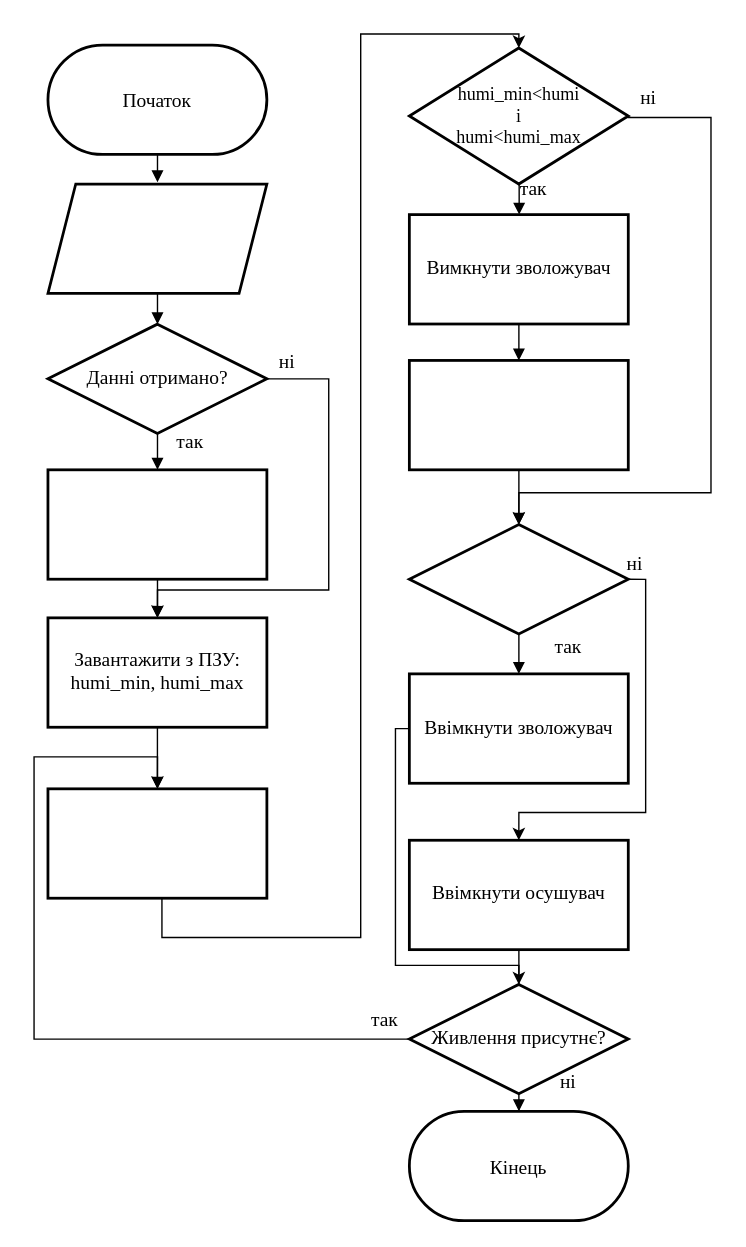
The diagram is 746 pixels wide and 1247 high, and some of its shapes have lost their labels. Each missing label, with the box of its shape:
humi_min, humi_max: (46, 182, 268, 294)
humi_min>humi: (407, 523, 629, 635)
Виванатажити в ПЗУ: humi_min, humi_max: (46, 468, 268, 580)
Викнути осушувач: (407, 358, 629, 471)
Прочитати і зберегти значення вологості в humi: (46, 787, 268, 899)
